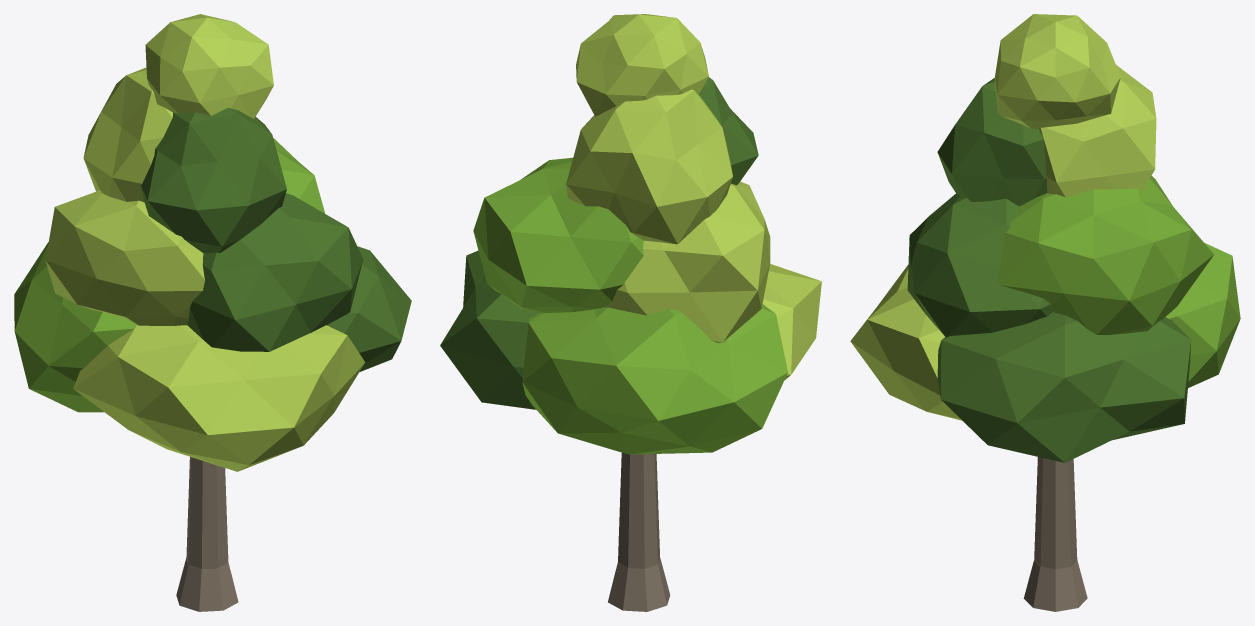
Rendered from tree_beech_2.glb.
3 views of the same model, side by side, from view 1: azimuth 30°, elevation 25°; view 2: azimuth 150°, elevation 25°; view 3: azimuth 270°, elevation 25° (orthographic).
Visible parts, largest first — view 1: tree_beech_2; view 2: tree_beech_2; view 3: tree_beech_2.
Part boxes in pixels (<box>): tree_beech_2: <box>14,14,411,611</box>; tree_beech_2: <box>440,14,821,611</box>; tree_beech_2: <box>850,14,1240,611</box>.
Size of what is drawn, in the model's own units: 6.45 by 10.58 by 6.5.
